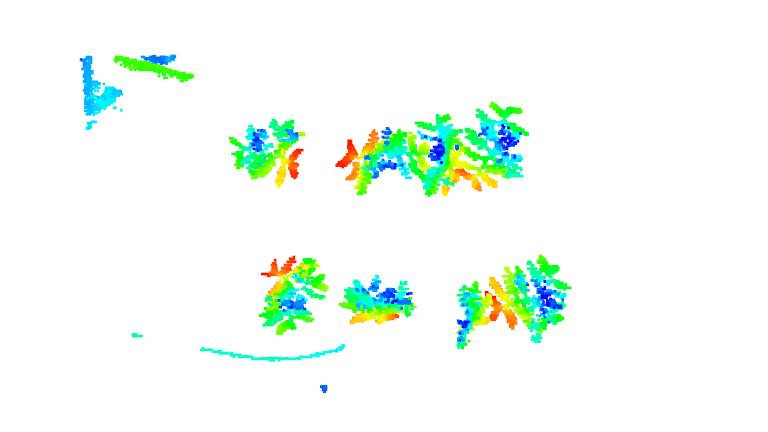chickpea: (456, 97, 531, 194), (490, 255, 570, 344), (256, 256, 328, 336), (228, 116, 304, 186), (336, 125, 415, 192), (338, 270, 420, 327), (415, 114, 462, 198), (451, 279, 494, 351)
